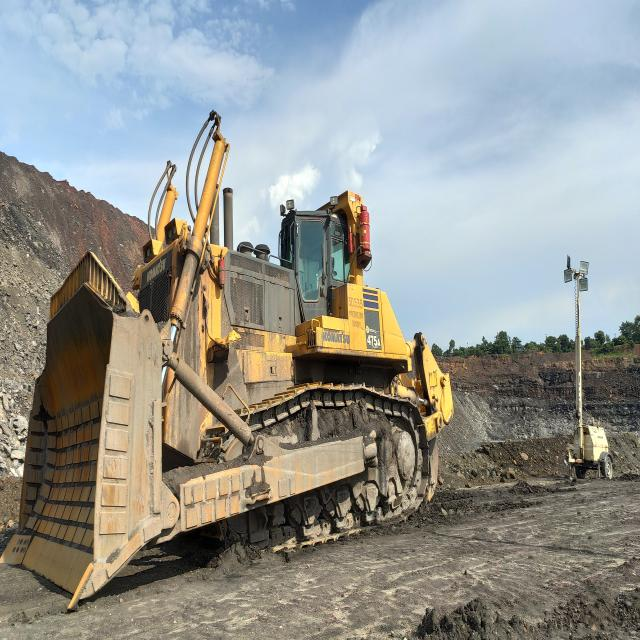buldozerpayloadergrader: (0, 113, 454, 607)
